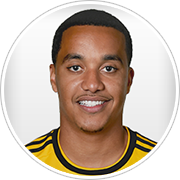smile: (75, 95, 109, 112)
